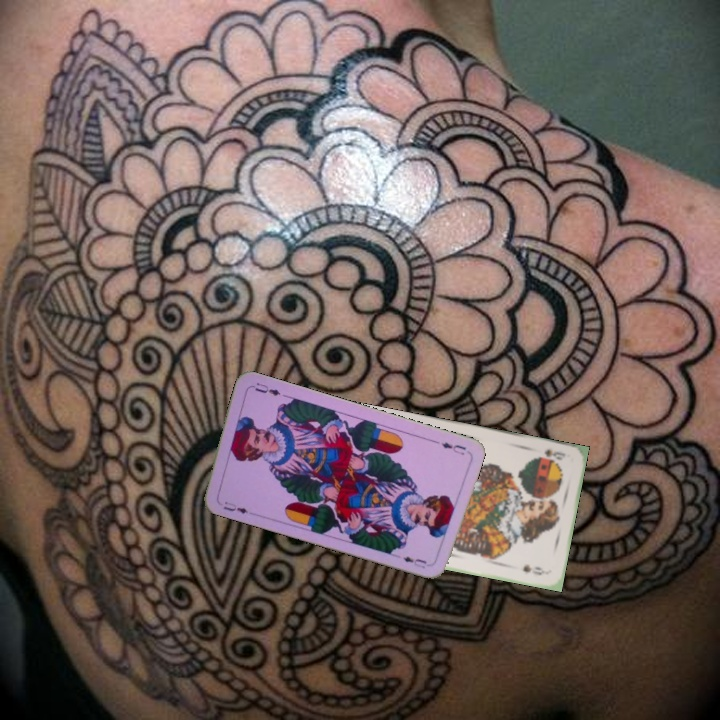EU: (437, 438, 468, 457), (219, 502, 251, 516)
SO: (535, 445, 568, 463)
